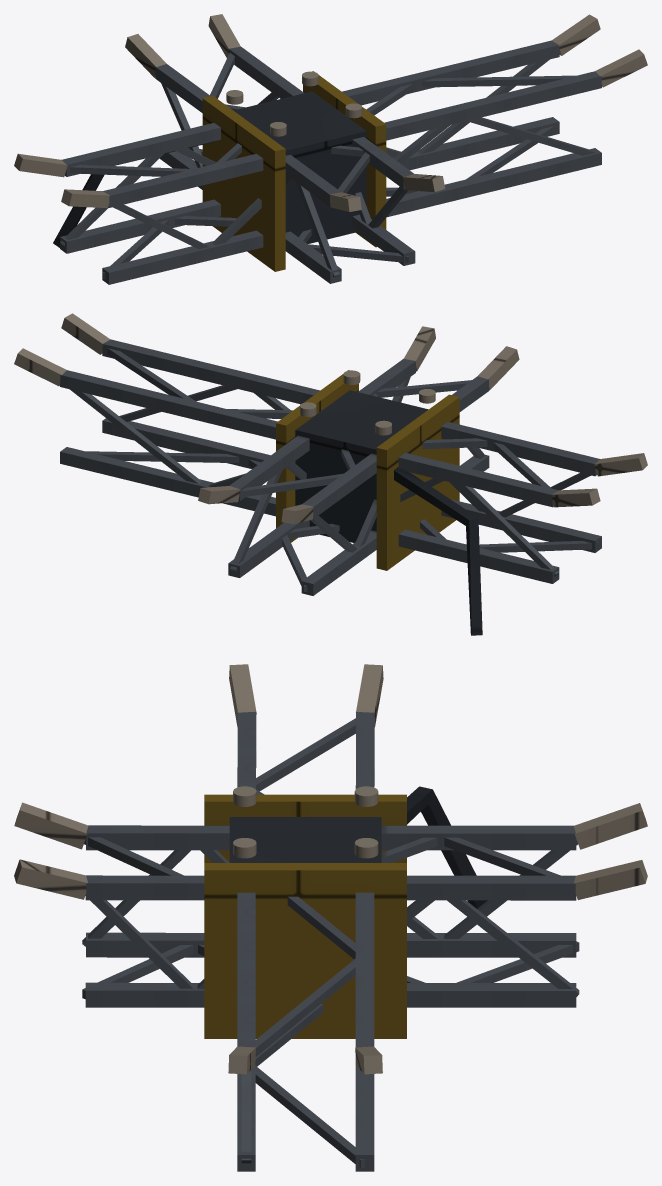
The model's file is cargo-snapped-truss-node_lod1.glb.
3 renders of one model, top to bottom at view 1: azimuth 30°, elevation 25°; view 2: azimuth 150°, elevation 25°; view 3: azimuth 270°, elevation 25°, orthographic. The views are drawn at different scales.
Parts seen in each view (by area): view 1: LOD1_Mechanical, LOD1_Livery, LOD1_Armor, LOD1_BrushedMetal, LOD1_MechanicalDark; view 2: LOD1_Mechanical, LOD1_Livery, LOD1_Armor, LOD1_BrushedMetal, LOD1_MechanicalDark; view 3: LOD1_Mechanical, LOD1_Livery, LOD1_BrushedMetal, LOD1_Armor, LOD1_MechanicalDark.
Part boxes in pixels (x1,y1,x2,y2): LOD1_Mechanical: (60,40,601,284); LOD1_Livery: (202,71,386,271); LOD1_Armor: (233,91,366,243); LOD1_BrushedMetal: (14,14,647,211); LOD1_MechanicalDark: (53,141,214,247); LOD1_Mechanical: (60,339,601,595); LOD1_Livery: (276,370,459,570); LOD1_Armor: (295,390,428,542); LOD1_BrushedMetal: (14,313,647,524); LOD1_MechanicalDark: (394,466,482,635); LOD1_Mechanical: (82,711,579,1171); LOD1_Livery: (204,794,406,1038); LOD1_BrushedMetal: (14,664,647,1074); LOD1_Armor: (229,817,381,862); LOD1_MechanicalDark: (407,786,487,908).
Size of the model in its own units: 2.77 by 0.685 by 1.87.
Materials: 5 (5 with a texture image).
